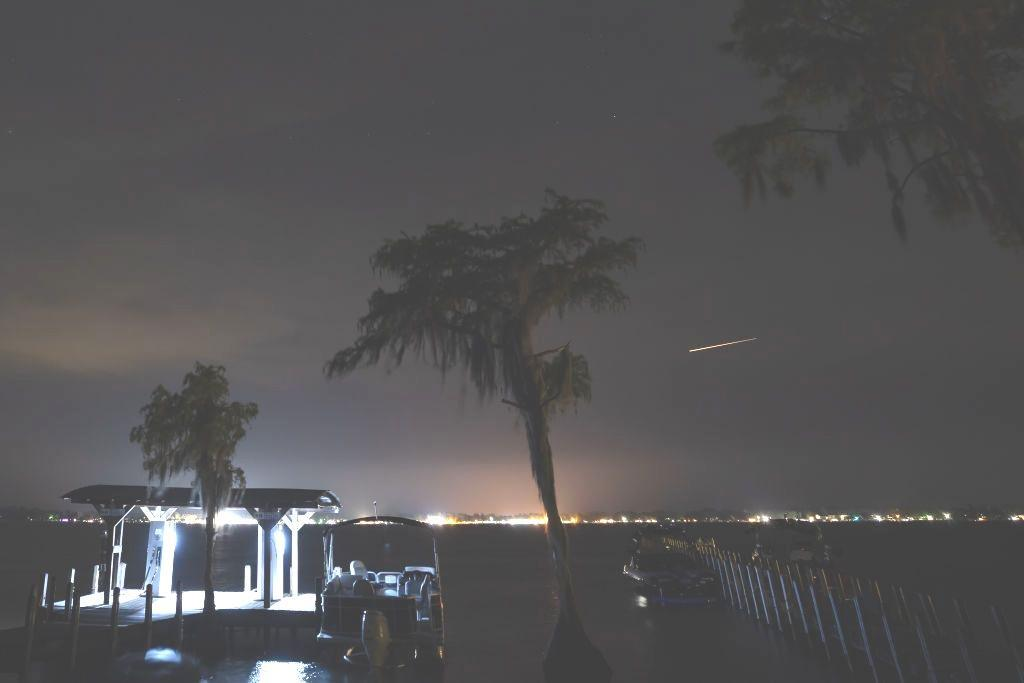meteorite: (672, 326, 777, 361)
